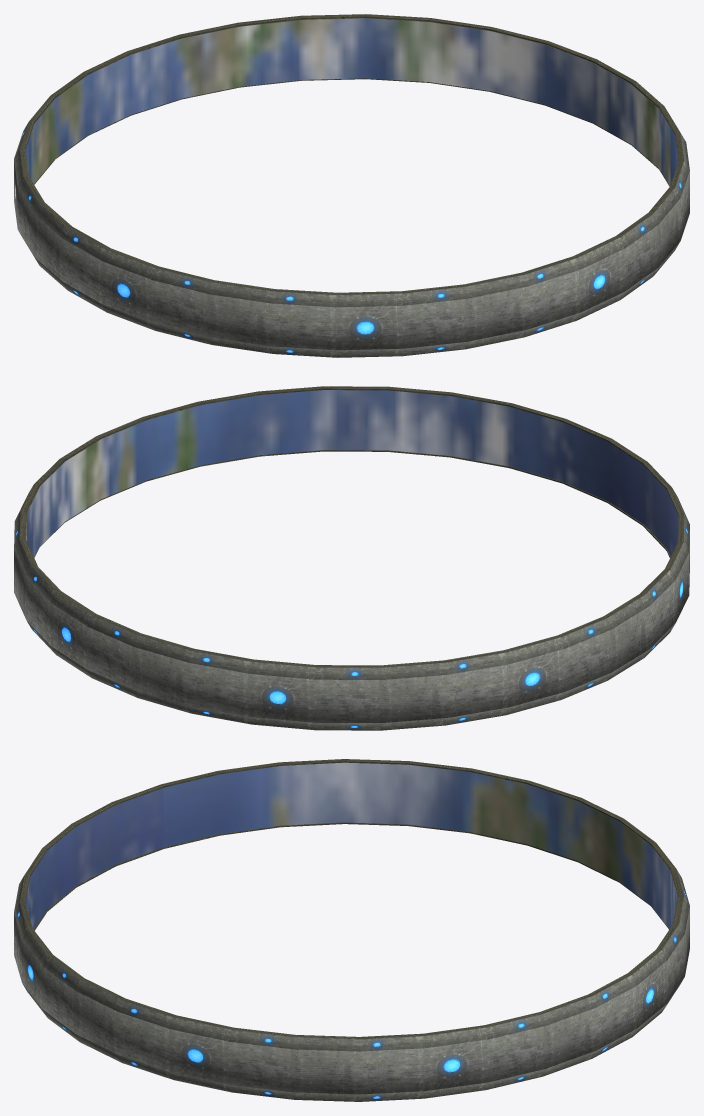
The model's file is imp_halo.glb.
3 views of the same model, one above another, from view 1: azimuth 30°, elevation 25°; view 2: azimuth 150°, elevation 25°; view 3: azimuth 270°, elevation 25° (orthographic).
Visible parts, largest first — view 1: imp_halo; view 2: imp_halo; view 3: imp_halo.
Boxes of the visible parts, x1,y1,x2,y2 form: imp_halo: (14,14,689,357); imp_halo: (14,386,689,730); imp_halo: (14,759,689,1101).
Bounding box in the file's own units: 0.625 × 0.0645 × 0.625.
3 materials, 3 textured.
